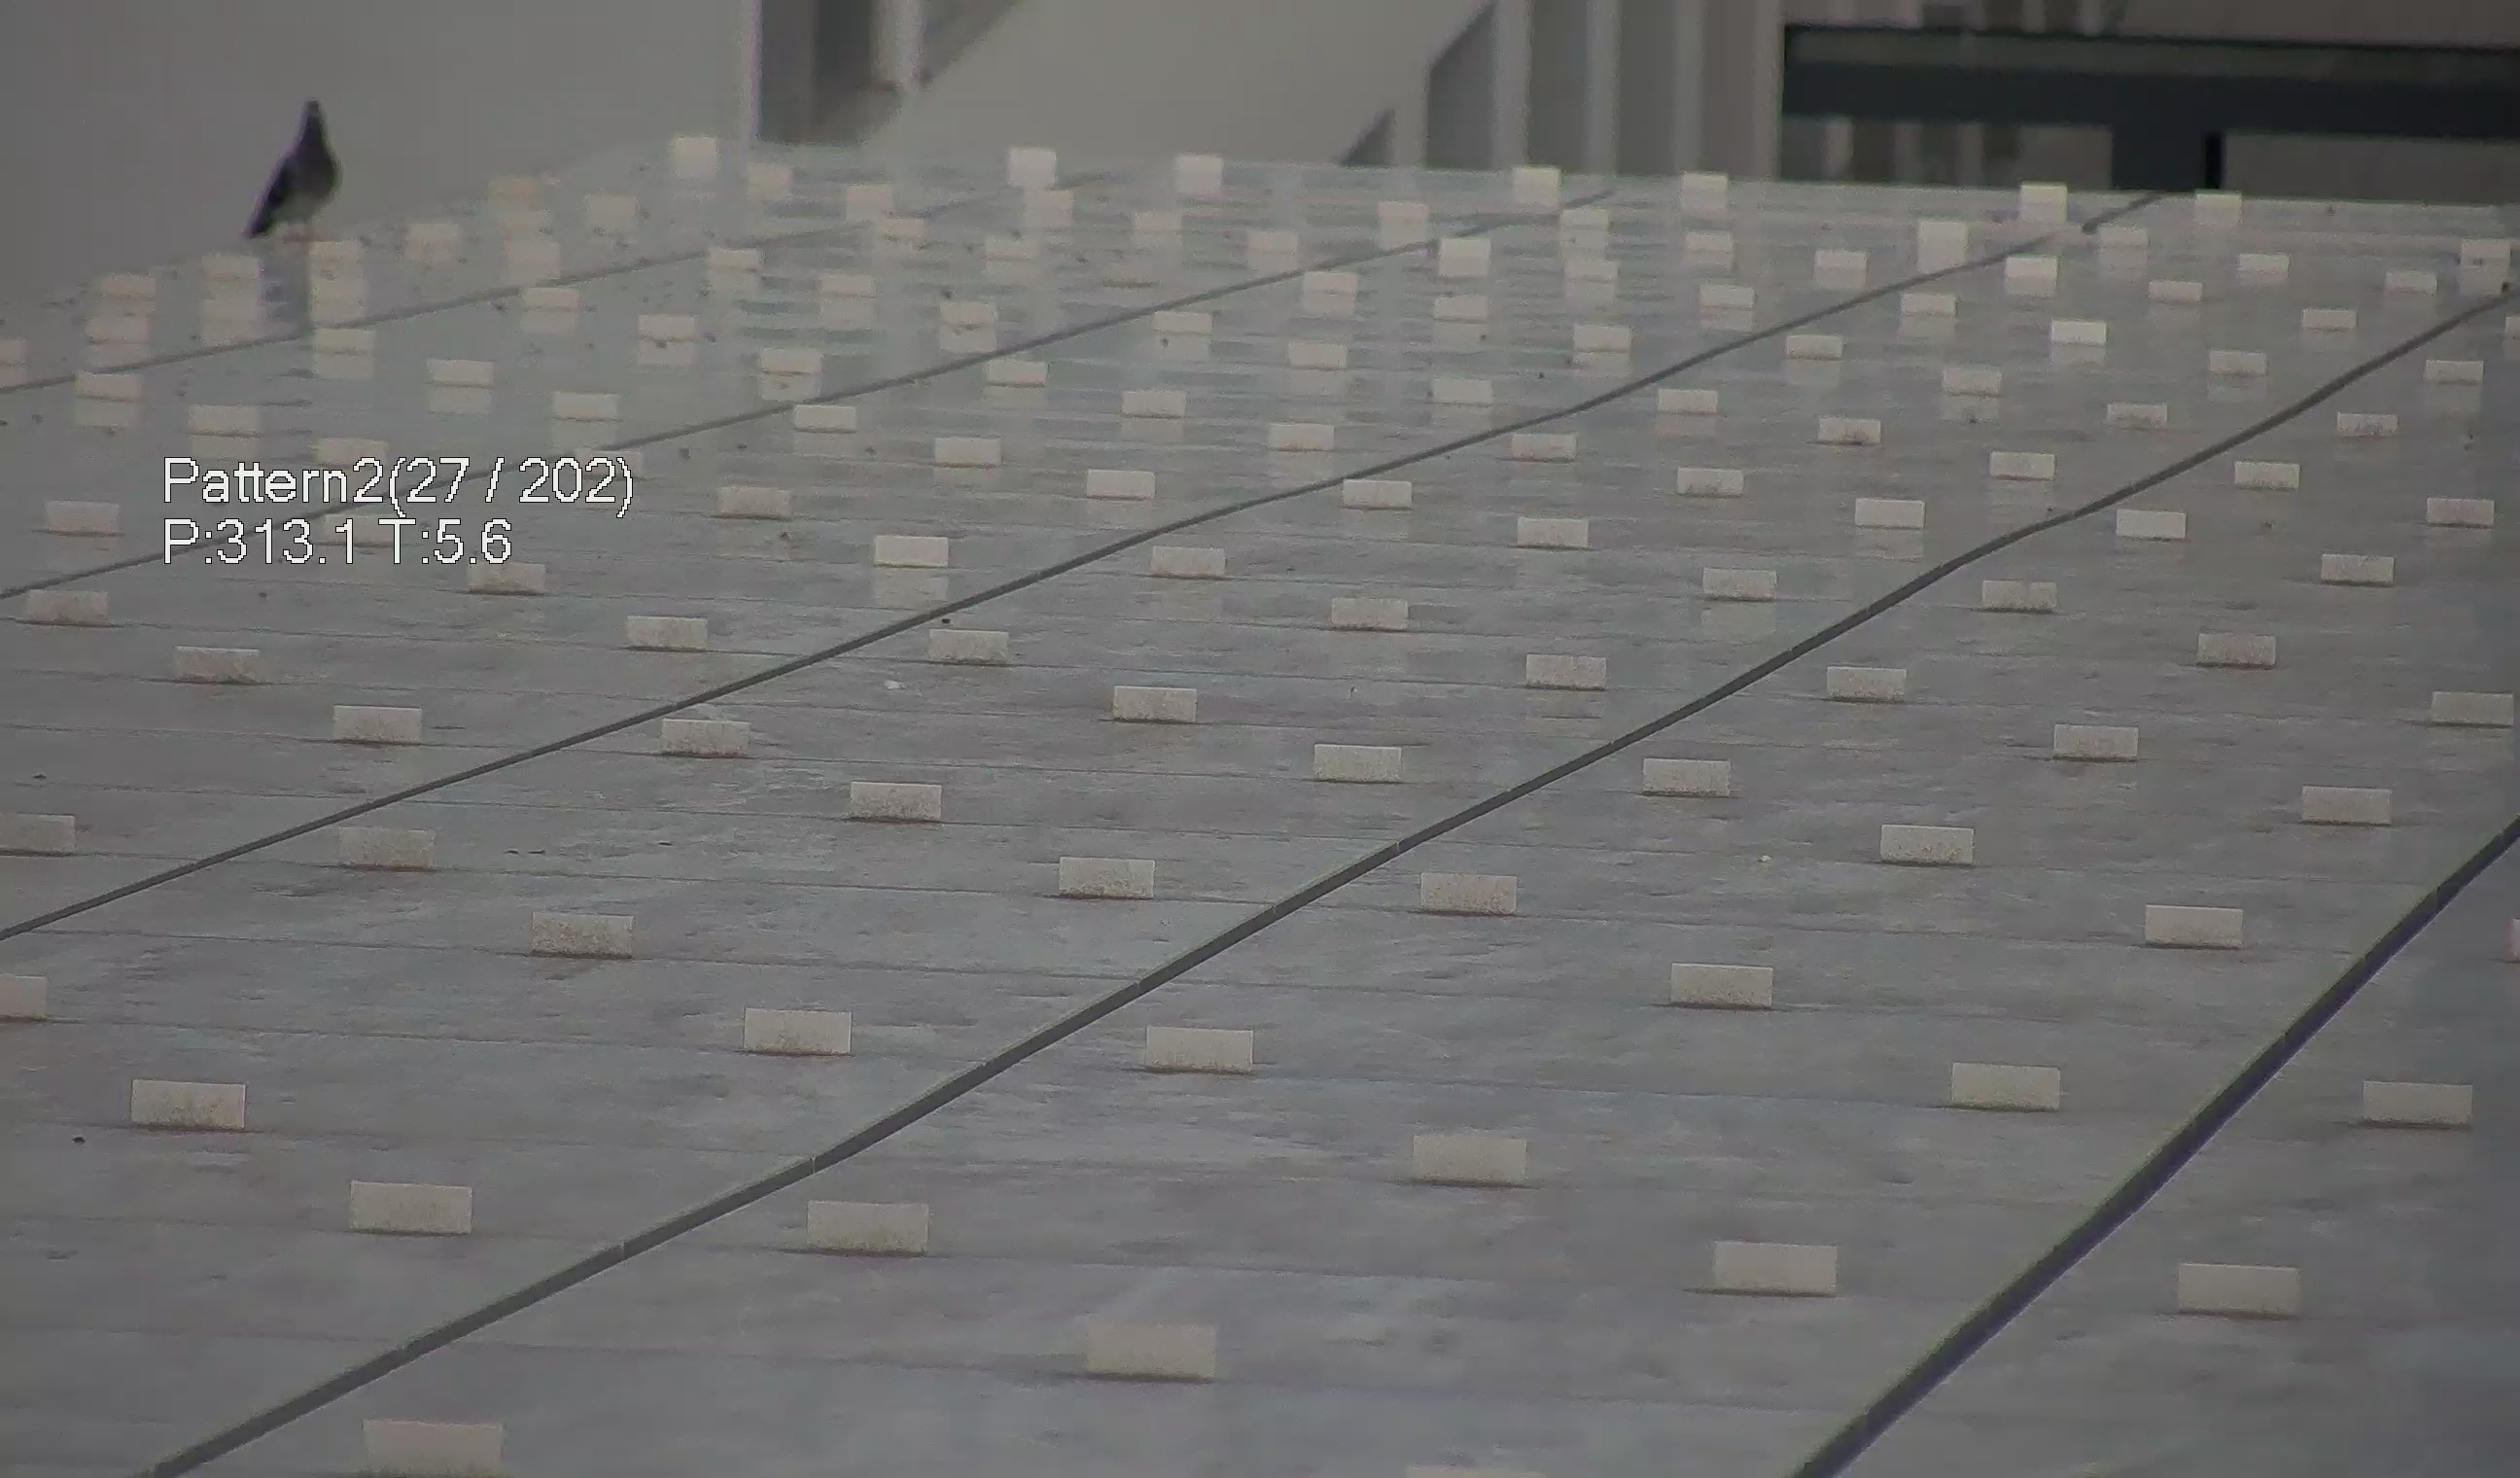Pigeon: (232, 79, 345, 248)
